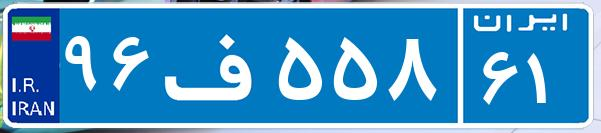1: (525, 38, 570, 115)
5: (273, 28, 330, 110), (330, 28, 385, 110)
6: (475, 38, 525, 113), (110, 28, 158, 105)
8: (385, 28, 445, 110)
9: (57, 26, 110, 107)
ف: (158, 15, 273, 115)
